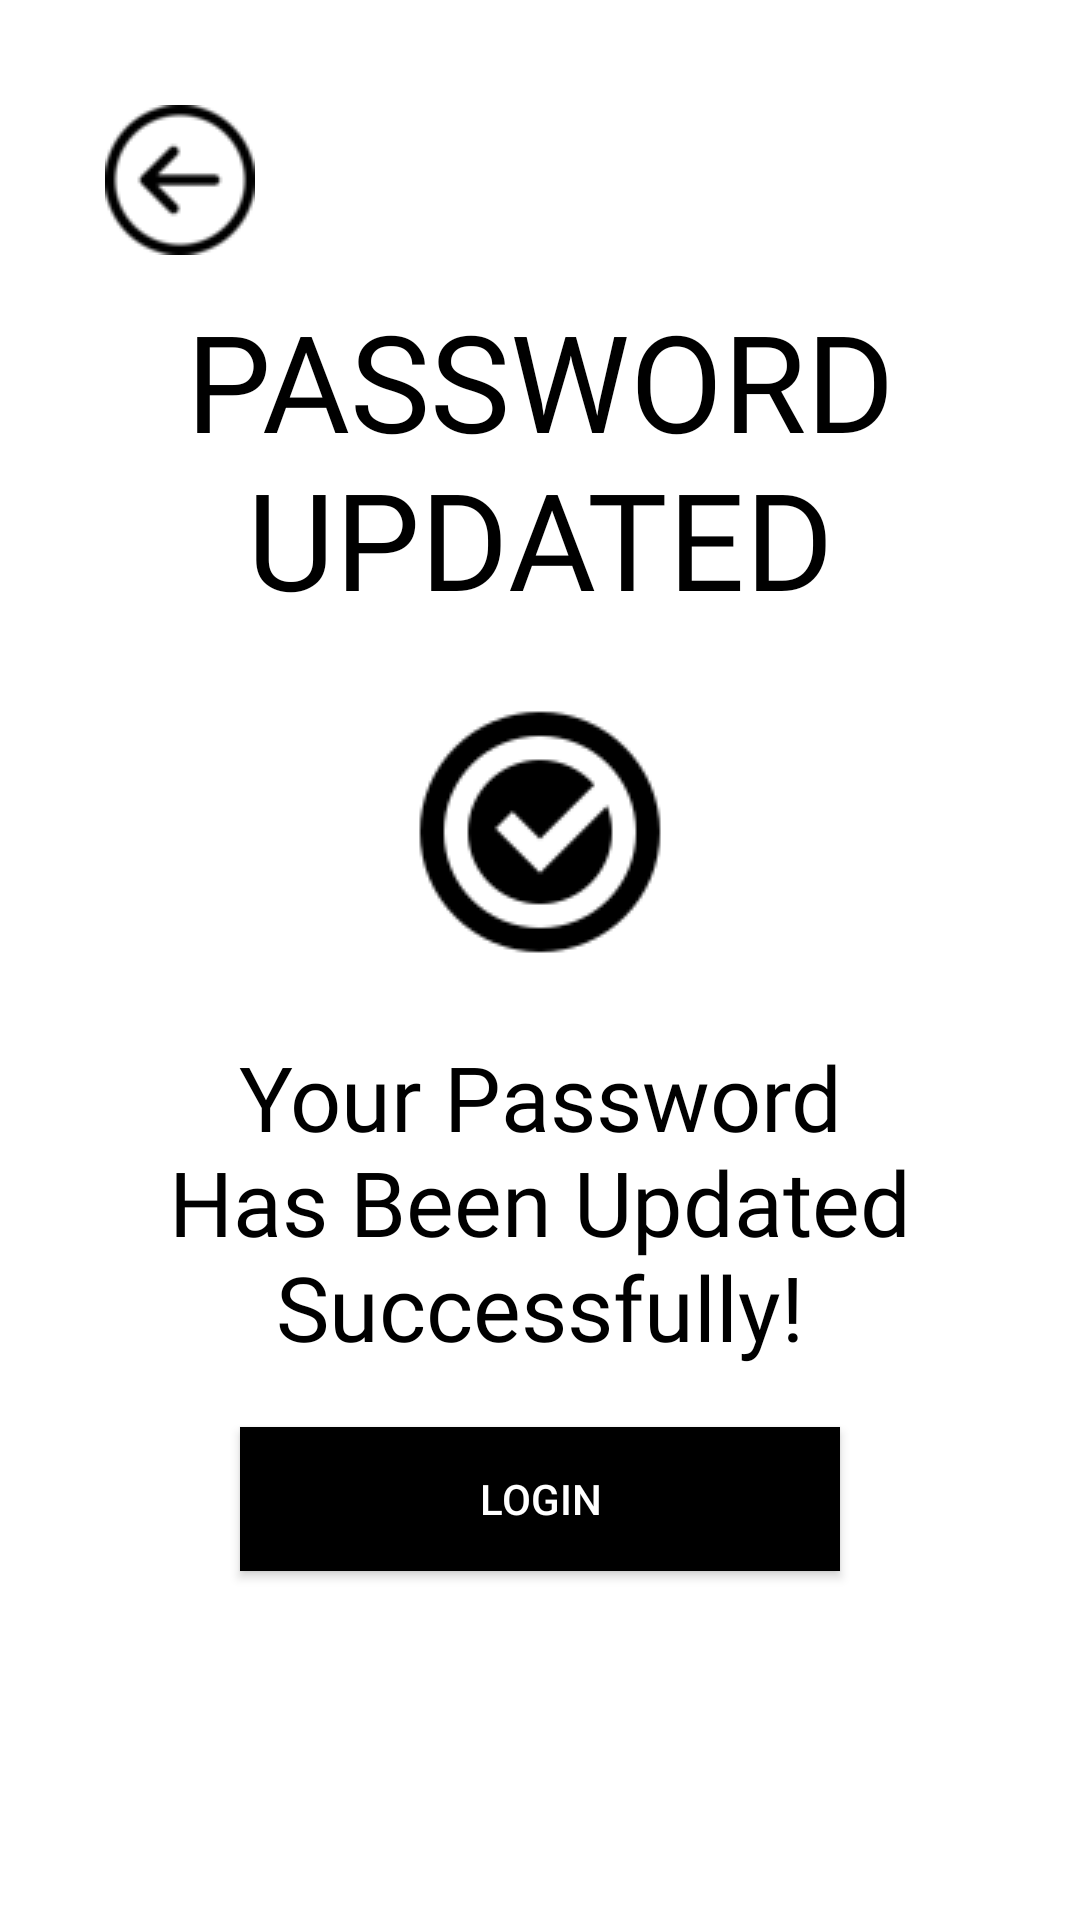

Icons on this 1080×1920 Android screen, each with the point to tap as (x,y):
back: (180,180)
tick: (540,832)
